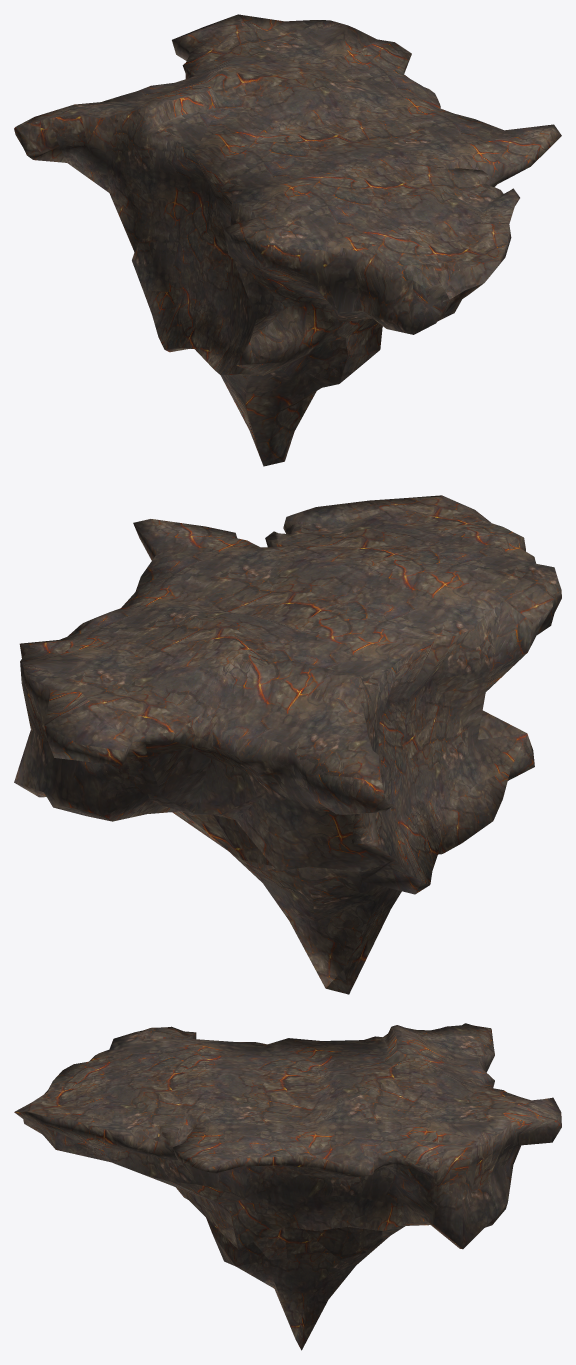
File: S_Rock_Black024.FBX
The picture shows the model from 3 angles, top to bottom: view 1: azimuth 30°, elevation 25°; view 2: azimuth 150°, elevation 25°; view 3: azimuth 270°, elevation 25°; orthographic projection. The views are drawn at different scales.
Parts seen in each view (by area): view 1: S_Rock_Black024; view 2: S_Rock_Black024; view 3: S_Rock_Black024.
Part boxes in pixels (x1=…): S_Rock_Black024: x1=14, y1=14, x2=561, y2=466; S_Rock_Black024: x1=14, y1=495, x2=561, y2=994; S_Rock_Black024: x1=14, y1=1023, x2=561, y2=1350.
Size of the model in its own units: 2205 by 3170 by 1887.
